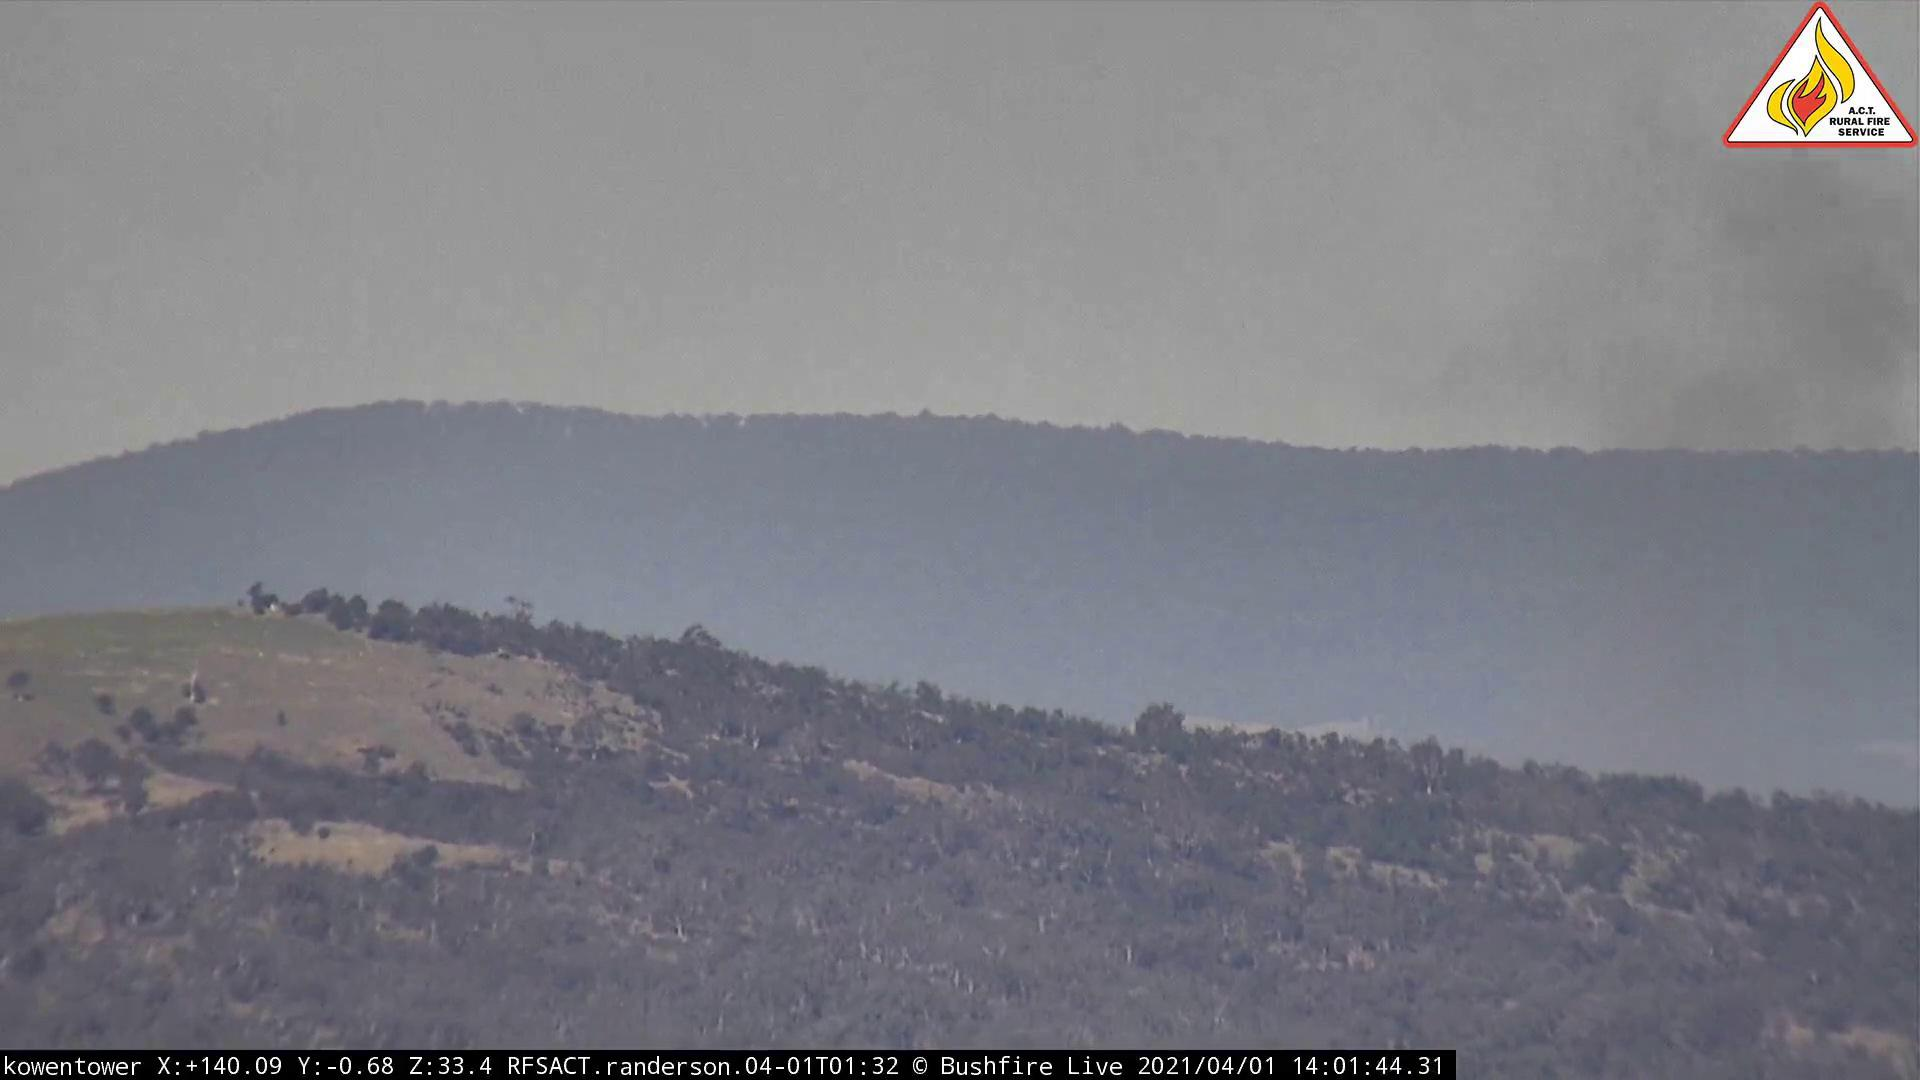Smoke: (1298, 3, 1913, 824)
